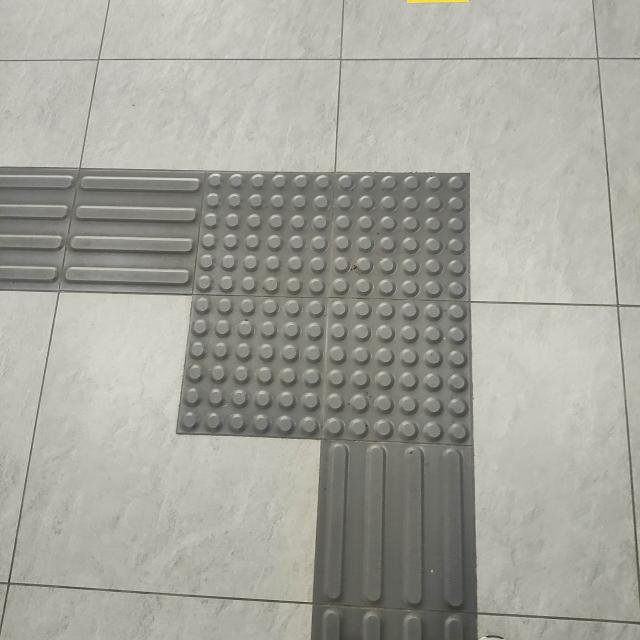kiri: (2, 109, 534, 545)
